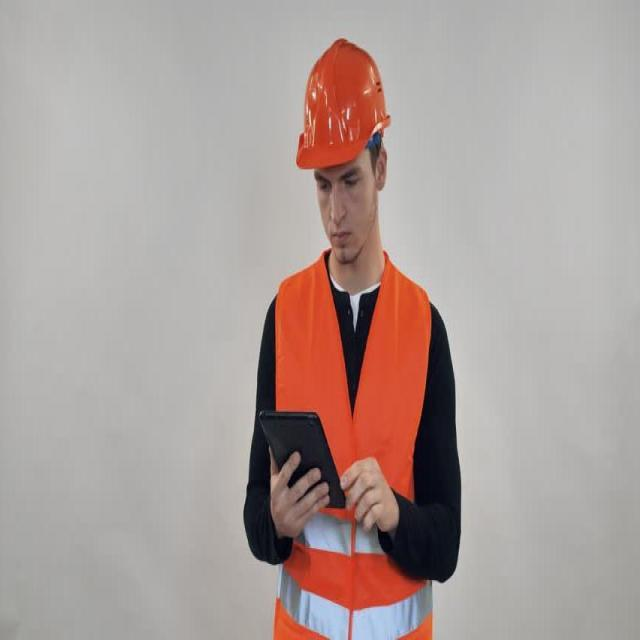Vest: (245, 258, 440, 640)
